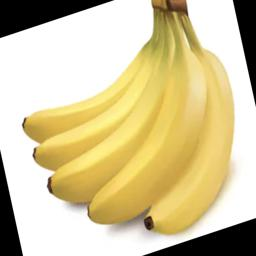Banana Fresh: (7, 23, 256, 231)
